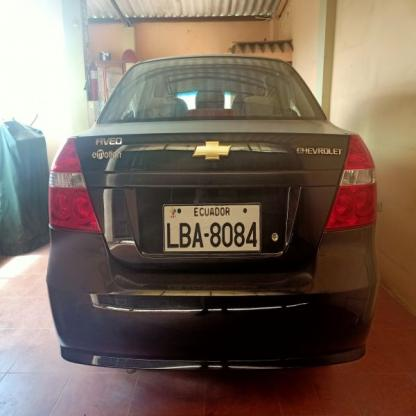Placa: (162, 201, 262, 254)
